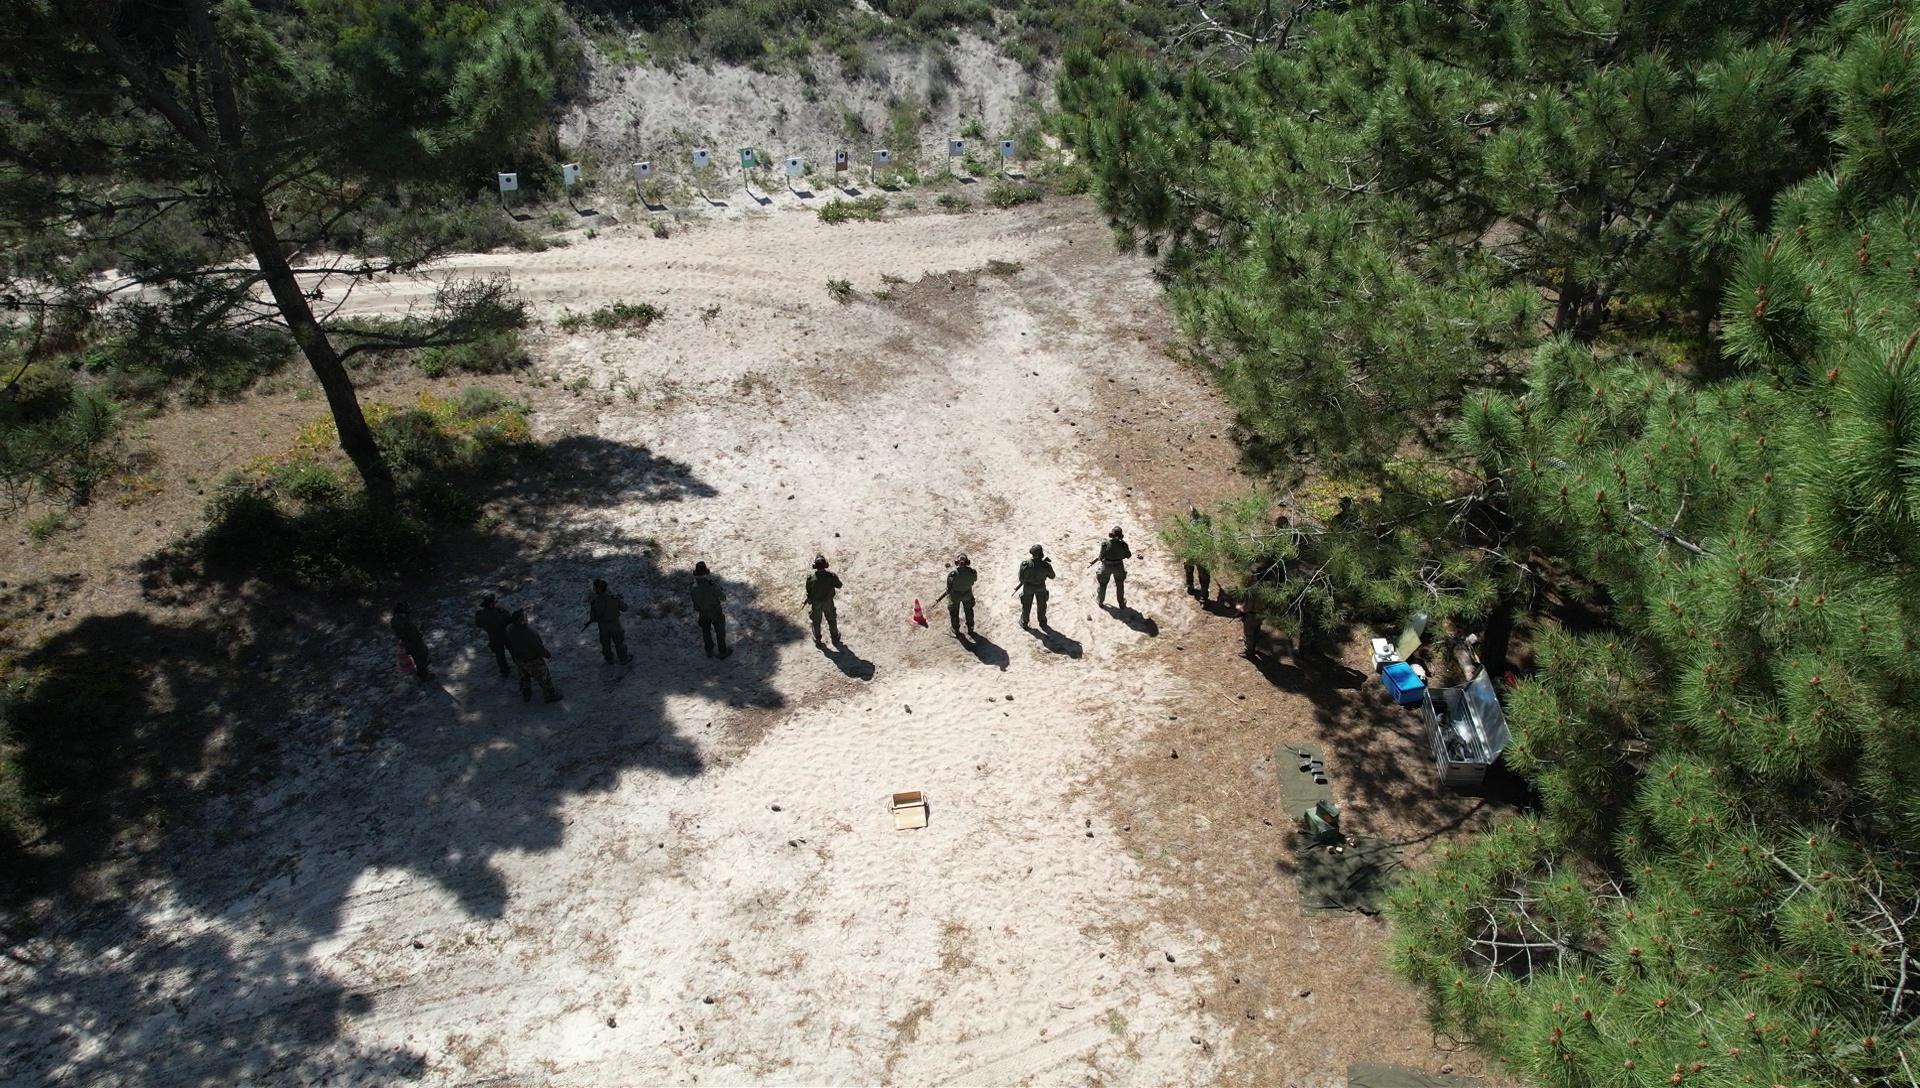Soldier: (684, 557, 742, 680), (579, 571, 637, 677), (796, 549, 851, 655), (378, 586, 438, 682), (491, 600, 545, 704), (1011, 542, 1060, 640), (939, 549, 984, 653), (1091, 516, 1135, 620), (481, 595, 533, 684)
